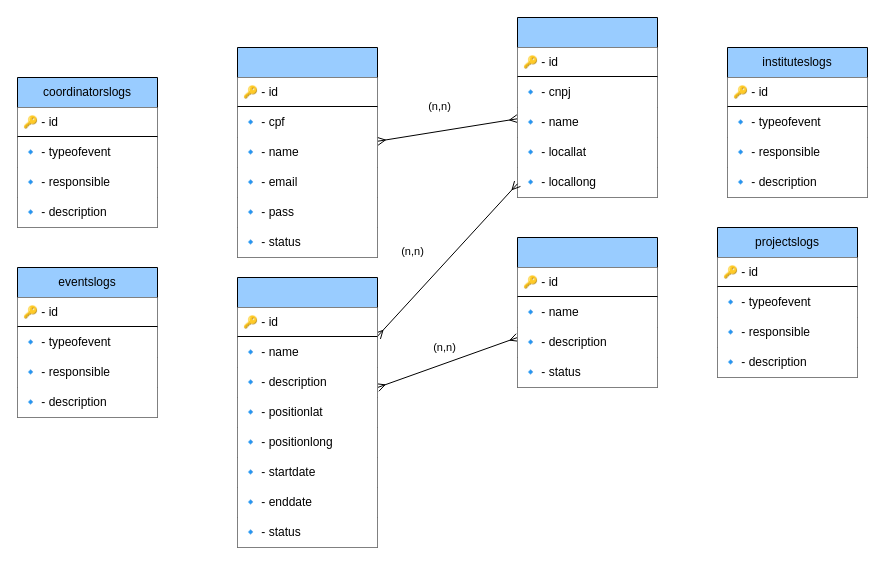
The diagram is 886 pixels wide and 565 high, and some of its shapes have lost their labels. Each missing label, with the box of its shape:
coordinators: (236, 46, 378, 258)
events: (236, 276, 378, 548)
institutes: (516, 16, 658, 198)
projects: (516, 236, 658, 388)
